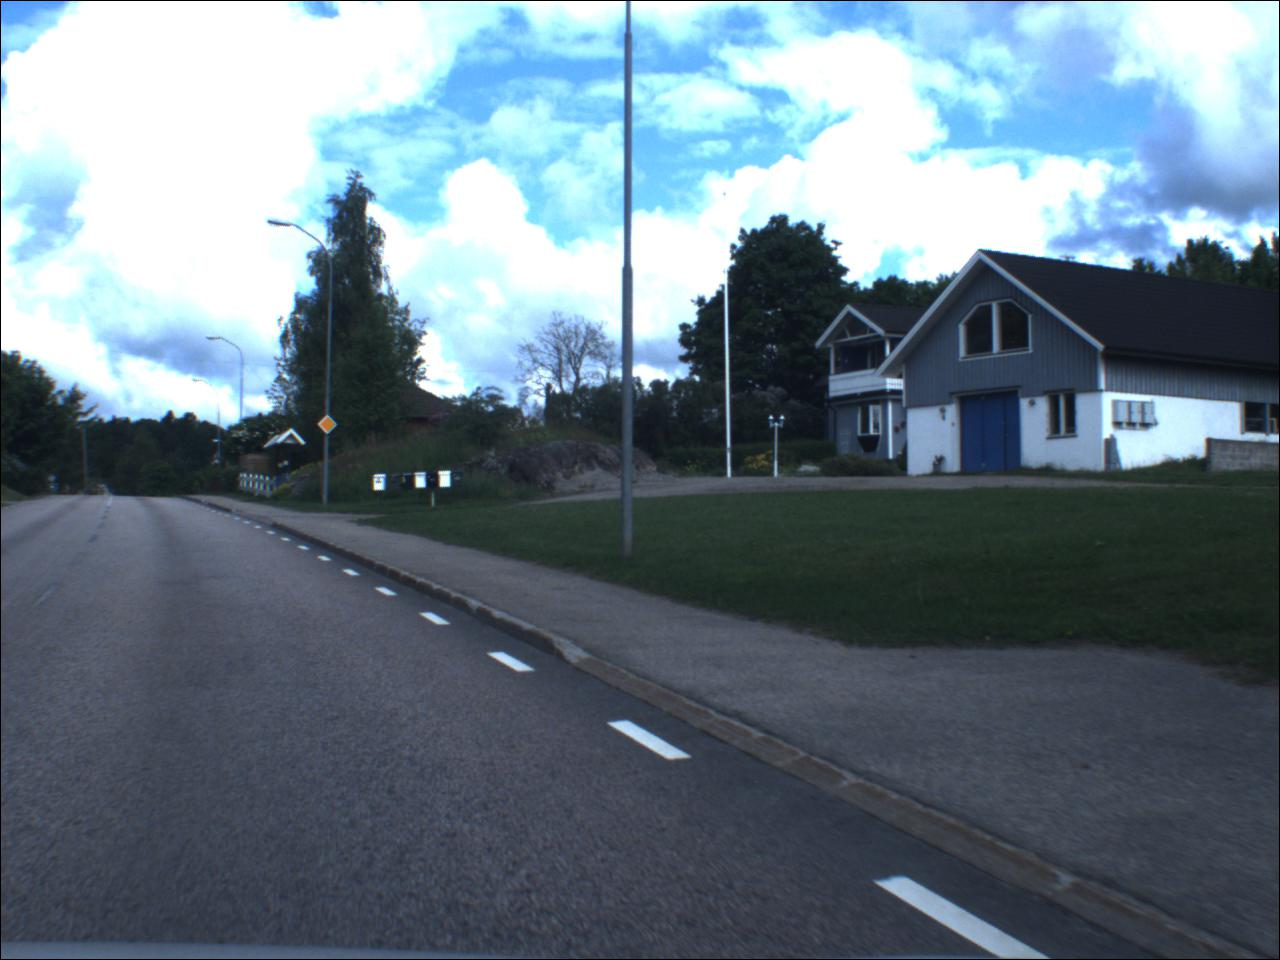PRIORITY_ROAD: (321, 416, 342, 436)
